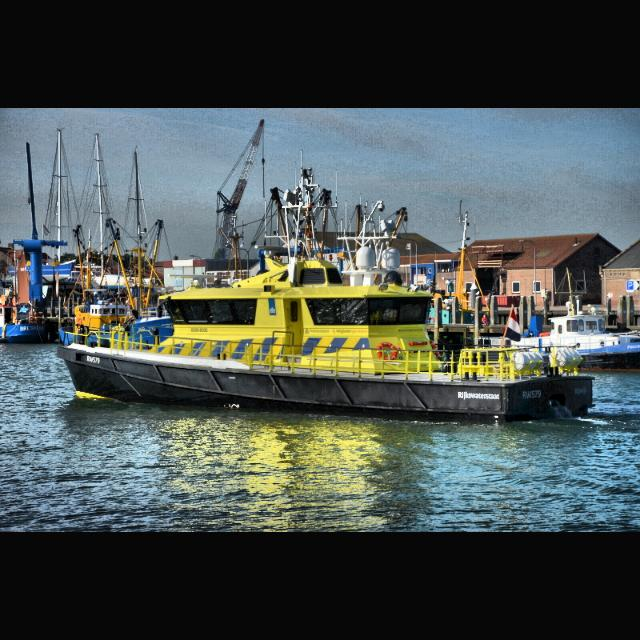patrol_vessel: (55, 168, 600, 422)
